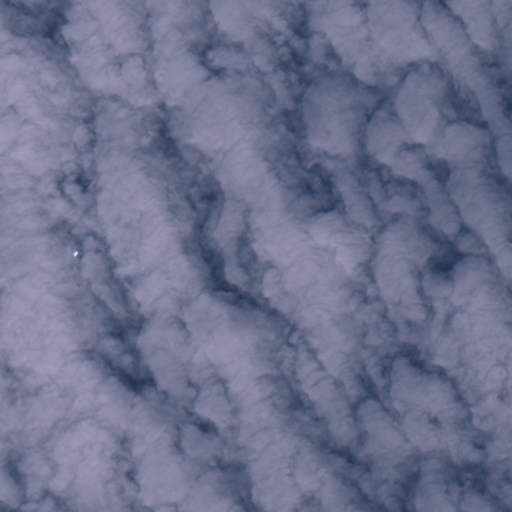Iceberg: (74, 251, 77, 255)
